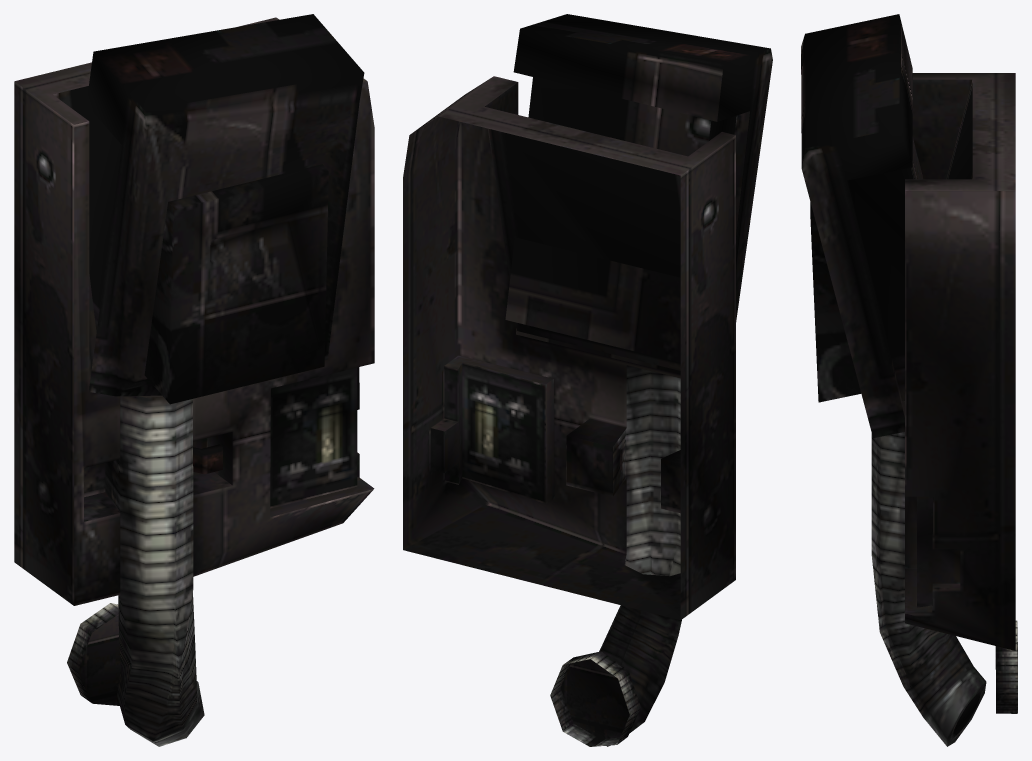
File: connection_off.glb
3 renders of one model, left to right at view 1: azimuth 30°, elevation 25°; view 2: azimuth 150°, elevation 25°; view 3: azimuth 270°, elevation 25°, orthographic. The views are drawn at different scales.
Parts seen in each view (by area): view 1: Box03, __lithtech_lh_to_gltf_rh__; view 2: Box03, __lithtech_lh_to_gltf_rh__; view 3: Box03, __lithtech_lh_to_gltf_rh__.
Part boxes in pixels (x1,y1,x2,y2): Box03: (14, 17, 374, 746); __lithtech_lh_to_gltf_rh__: (67, 14, 364, 705); Box03: (403, 76, 735, 746); __lithtech_lh_to_gltf_rh__: (505, 14, 772, 746); Box03: (871, 73, 1015, 746); __lithtech_lh_to_gltf_rh__: (801, 14, 1017, 713).
Bounding box in the file's own units: 15.38 × 36.23 × 10.4.
1 material, 1 textured.
